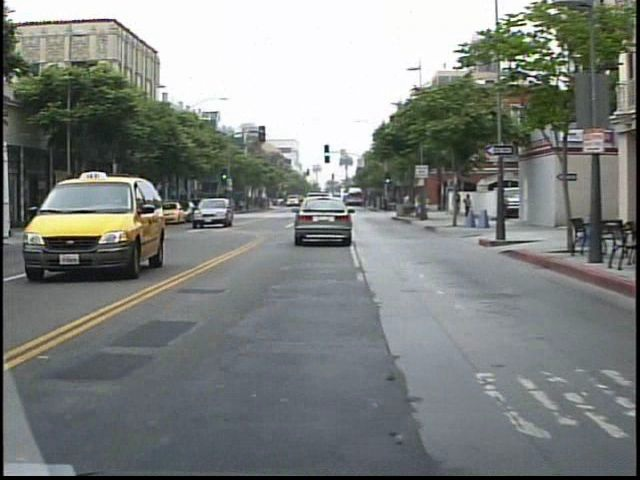person: (442, 183, 457, 225), (391, 188, 409, 219), (454, 187, 469, 222)
